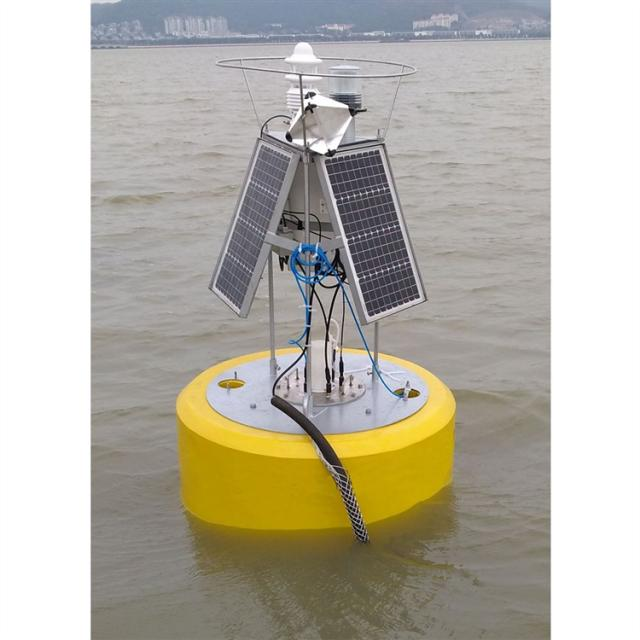buoy: (164, 40, 467, 540)
